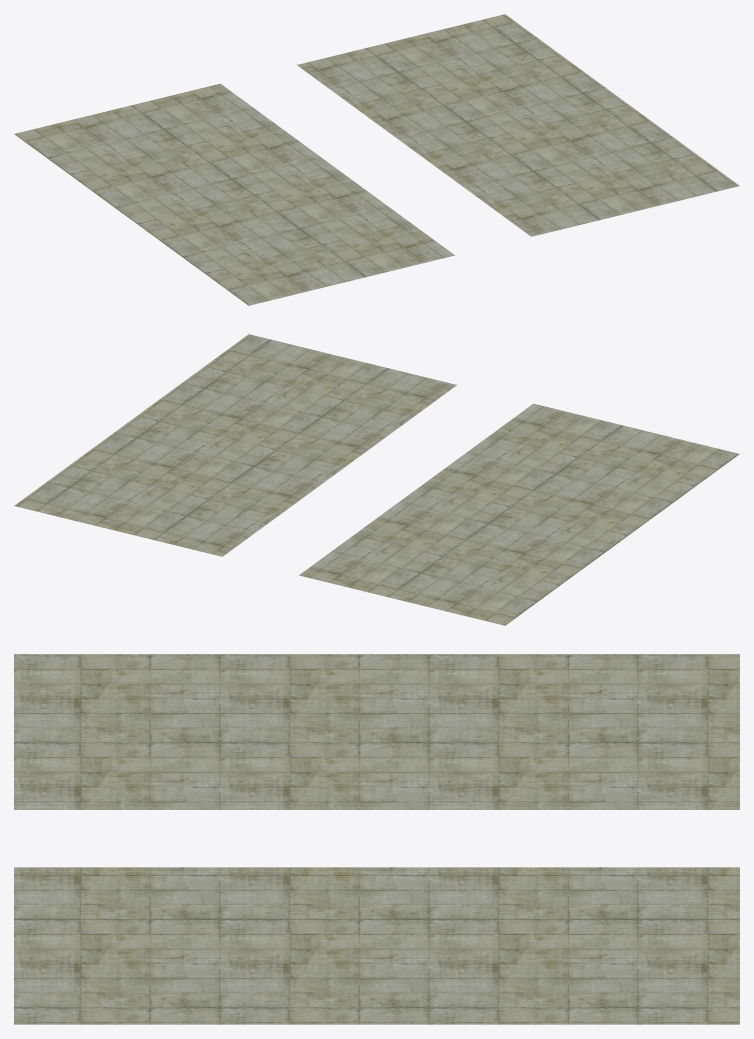
Rendered from SM_LDFest_11_Concrete_00.fbx.
3 views of the same model, one above another, from view 1: azimuth 30°, elevation 25°; view 2: azimuth 150°, elevation 25°; view 3: azimuth 270°, elevation 25° (orthographic). The views are drawn at different scales.
Parts seen in each view (by area): view 1: SM_LDFest_11_Concrete_00; view 2: SM_LDFest_11_Concrete_00; view 3: SM_LDFest_11_Concrete_00.
Boxes of the visible parts, box(x1,y1,x2,y2) form: SM_LDFest_11_Concrete_00: box(14, 14, 739, 305); SM_LDFest_11_Concrete_00: box(14, 334, 739, 625); SM_LDFest_11_Concrete_00: box(14, 654, 739, 1024).
Bounding box in the file's own units: 3573 × 0 × 2958.
